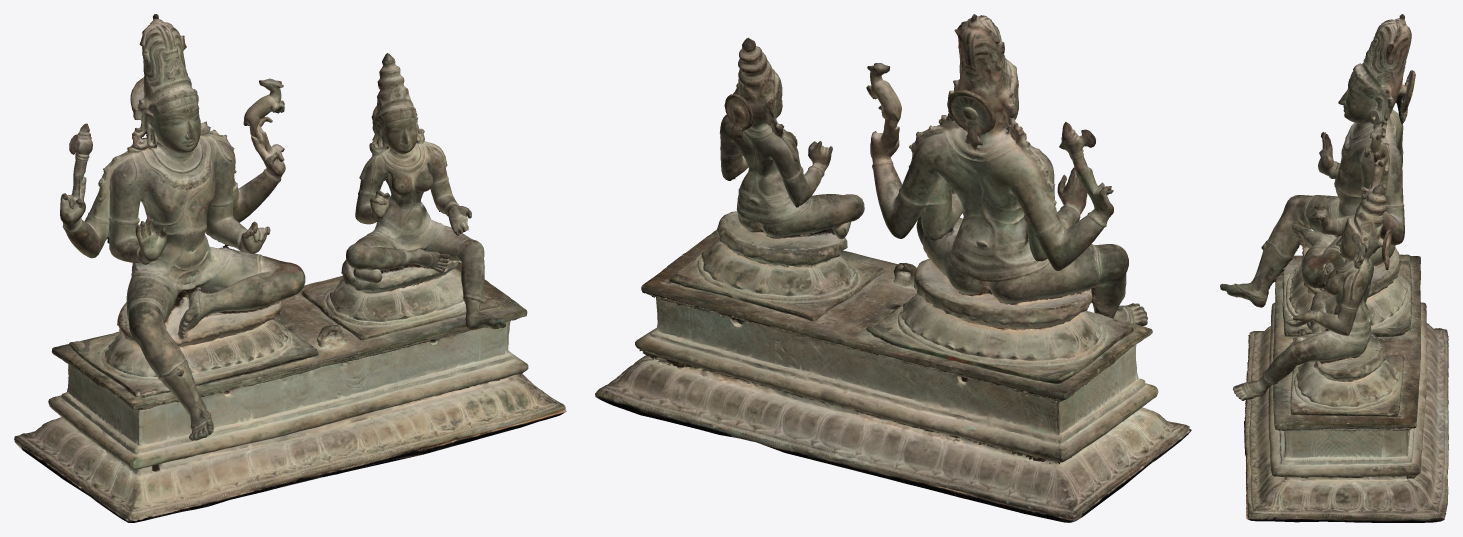
File: somaskanda-hi.glb
3 renders of one model, left to right at view 1: azimuth 30°, elevation 25°; view 2: azimuth 150°, elevation 25°; view 3: azimuth 270°, elevation 25°, orthographic. The views are drawn at different scales.
Parts seen in each view (by area): view 1: Object_2, Object_3; view 2: Object_2, Object_3; view 3: Object_2, Object_3.
Boxes of the visible parts, box(x1,y1,x2,y2) form: Object_2: box(14, 14, 566, 522); Object_3: box(179, 35, 411, 486); Object_2: box(595, 14, 1191, 522); Object_3: box(776, 31, 964, 481); Object_2: box(1220, 14, 1448, 522); Object_3: box(1245, 31, 1447, 449).
Bounding box in the file's own units: 0.6703 × 0.6104 × 0.3388.
Materials: 1 (1 with a texture image).
